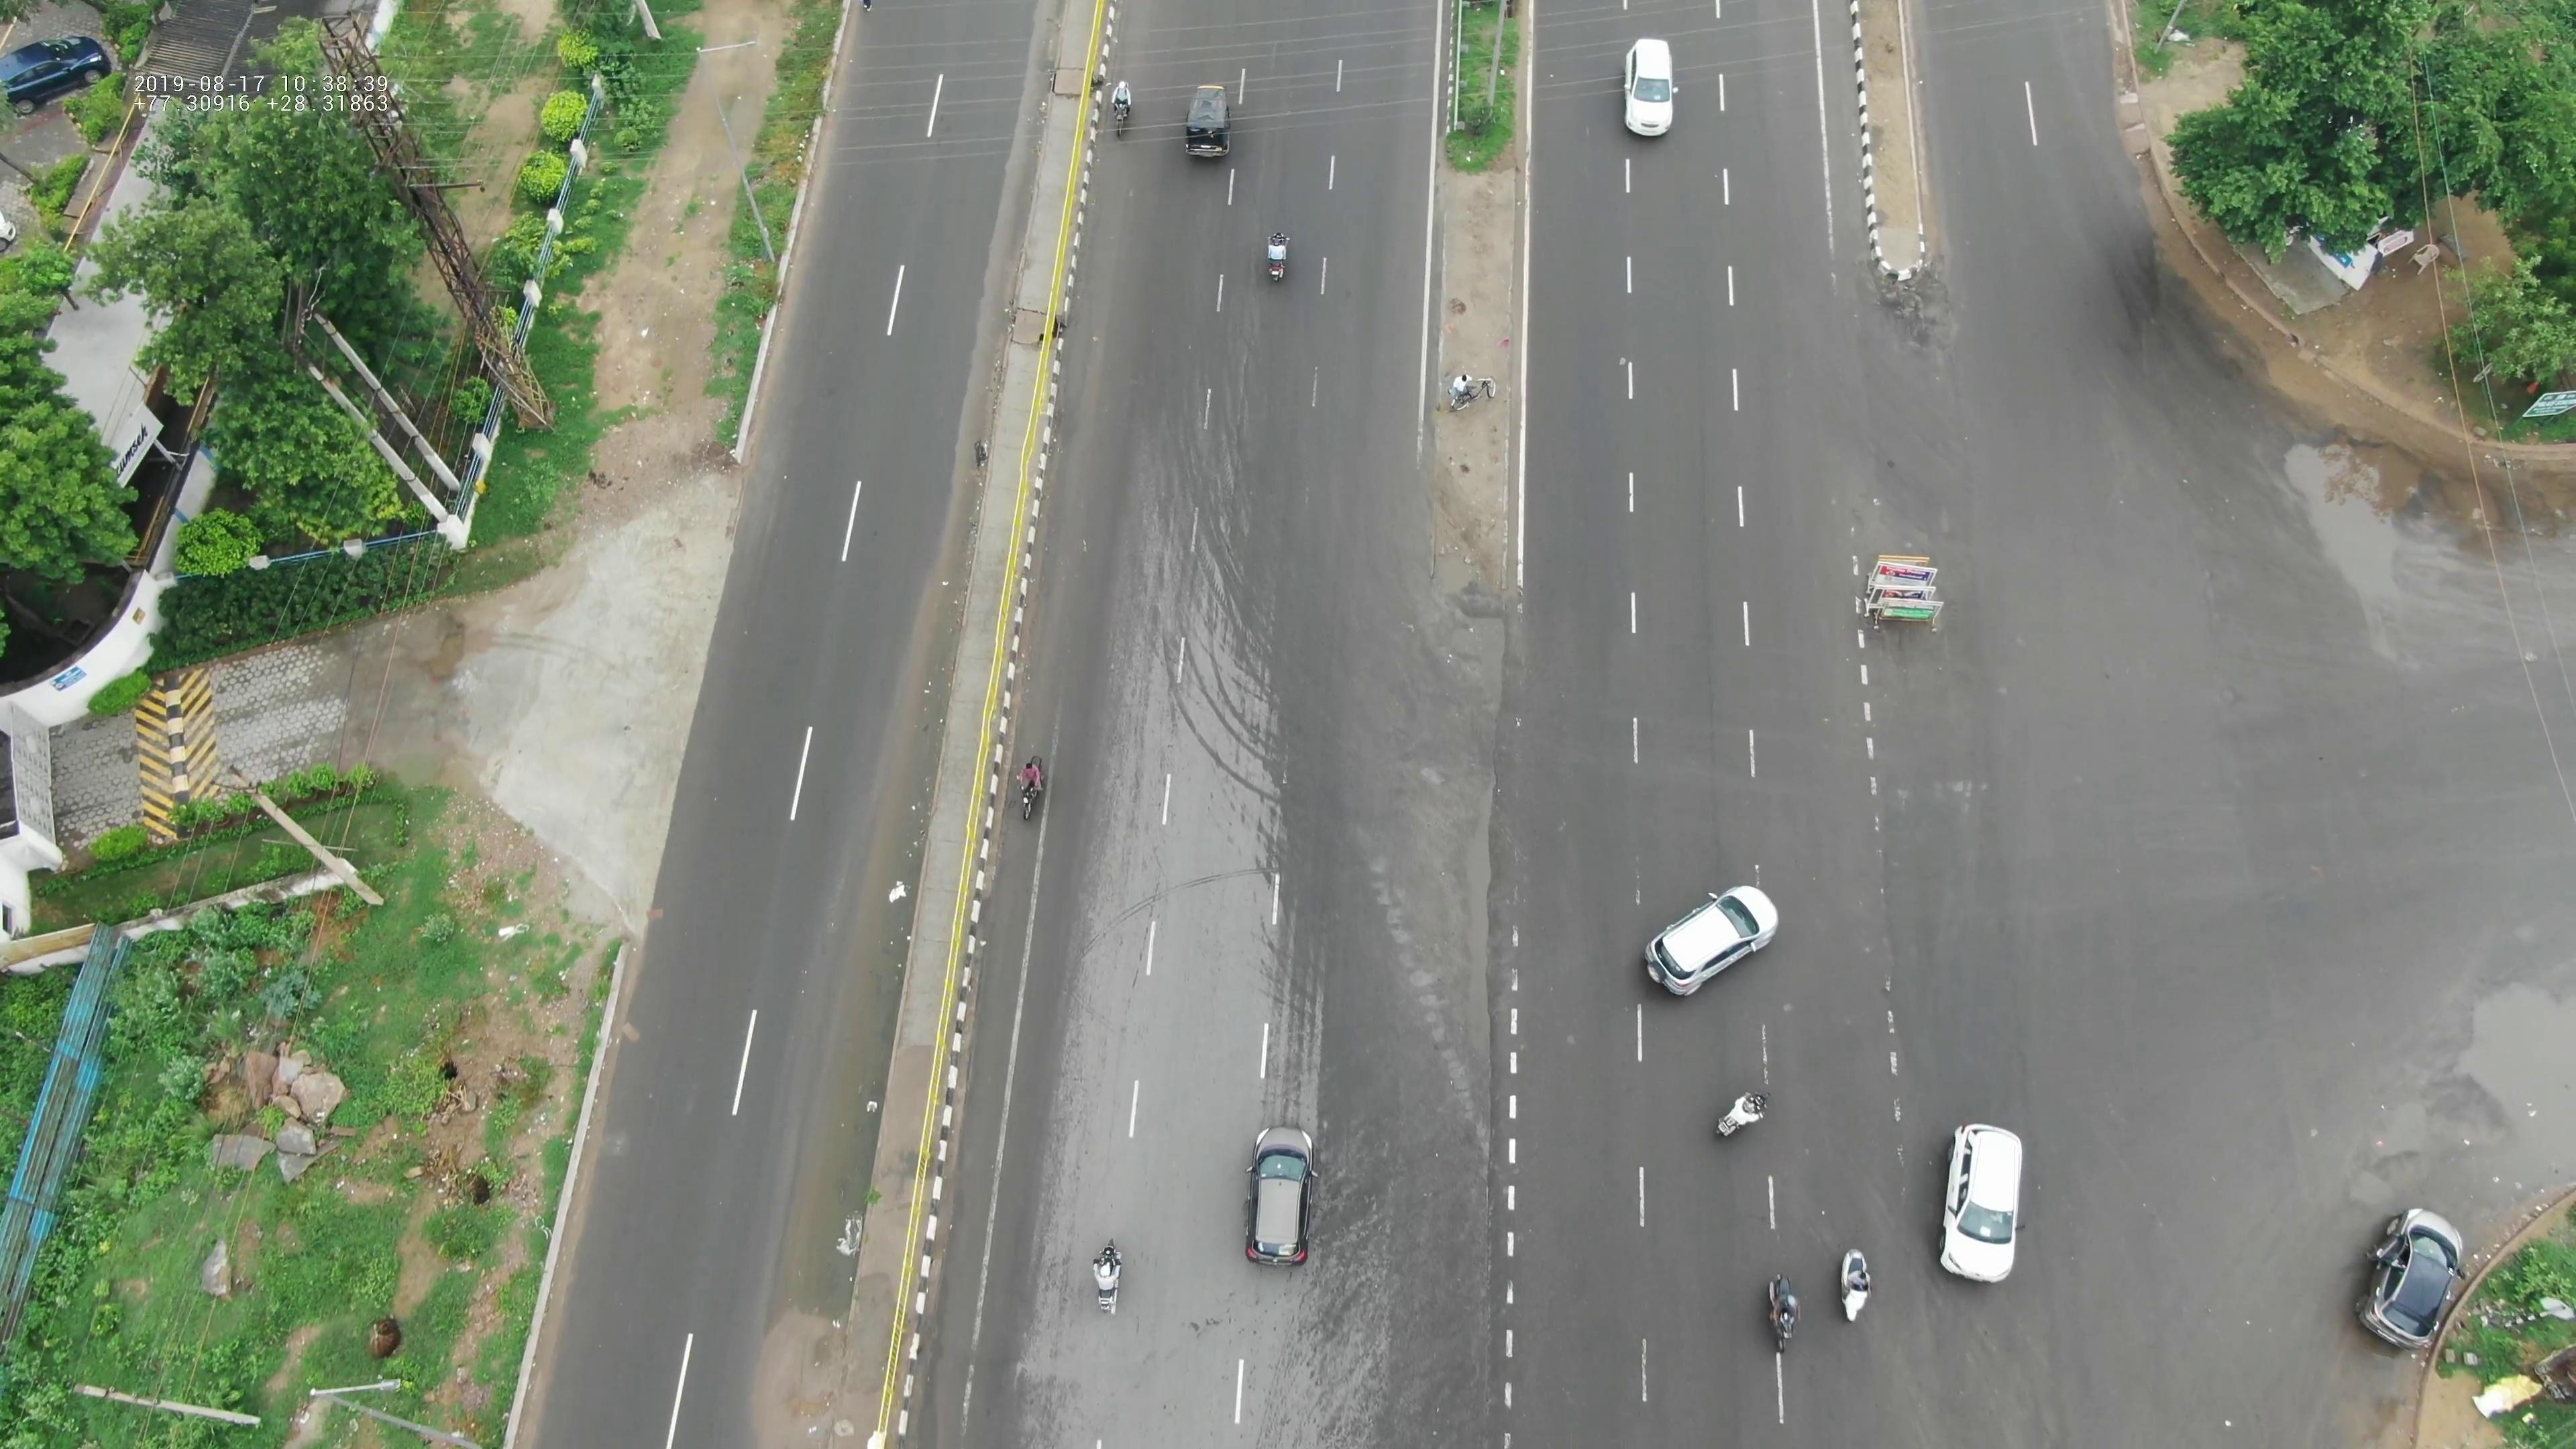Waterlogging: (814, 732, 945, 1010), (2272, 419, 2450, 617), (757, 1035, 874, 1323), (888, 531, 971, 695)
